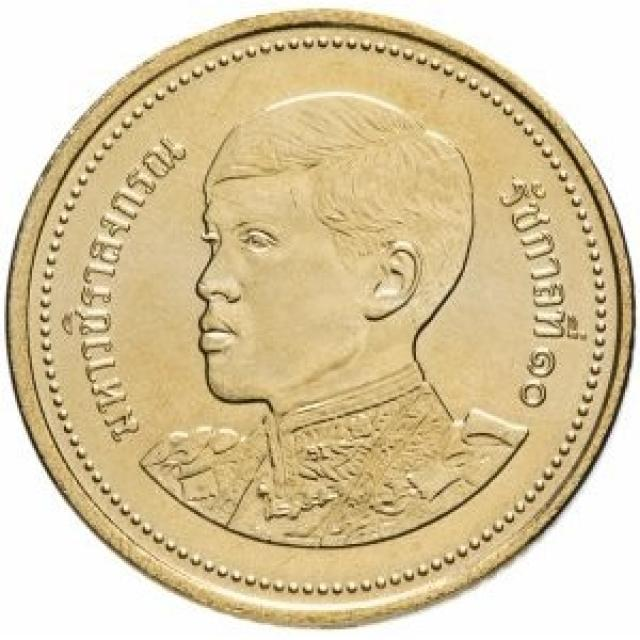2 Bath: (4, 6, 640, 632)
